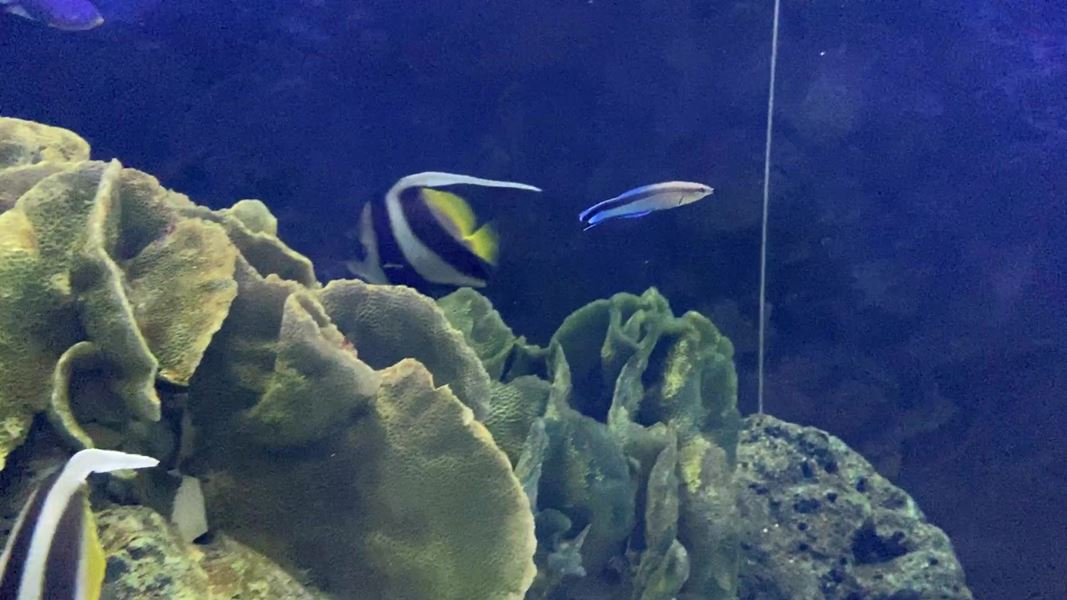Bluesteak cleaner wrasse: (561, 174, 721, 245)
